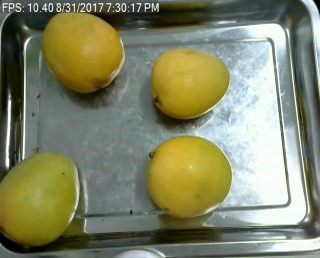Mango: (0, 150, 83, 249), (40, 8, 125, 94), (146, 135, 233, 217), (148, 48, 230, 121)
